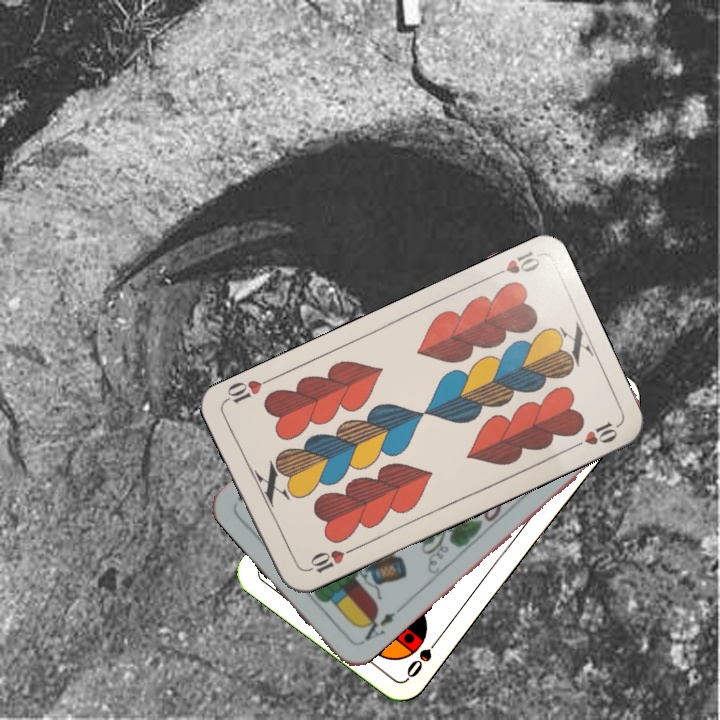EA: (356, 607, 398, 647)
H10: (485, 247, 543, 281), (301, 544, 357, 576)
SO: (402, 630, 445, 681)
